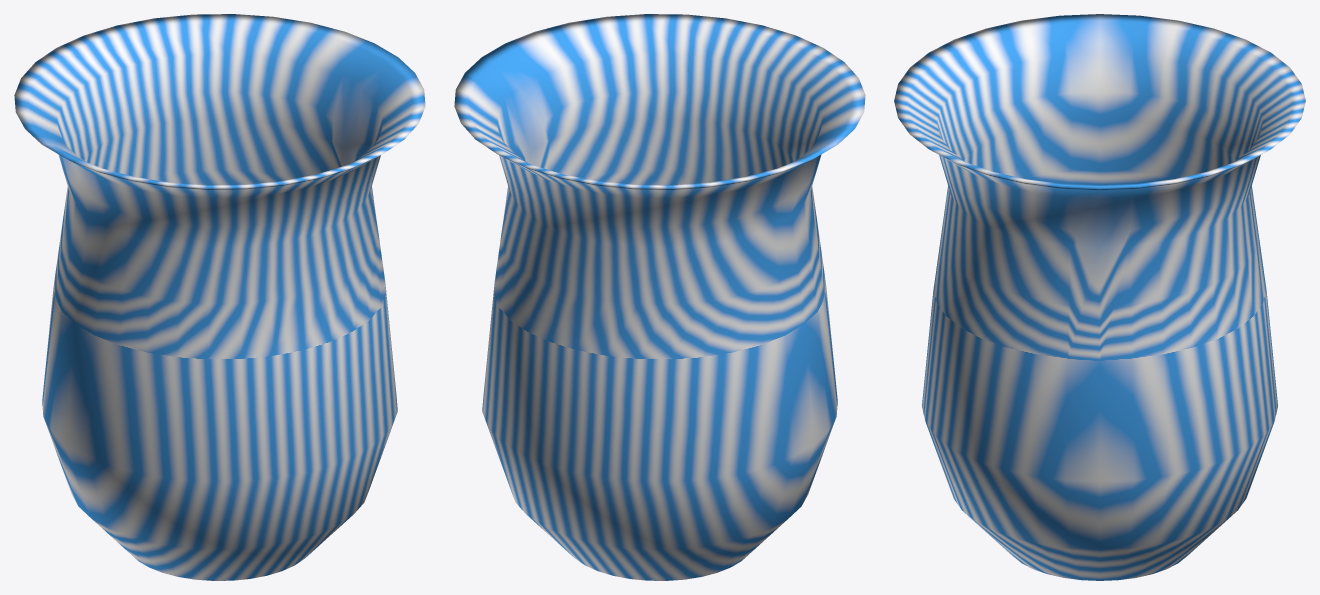
Rendered from vase_animated.glb.
The picture shows the model from 3 angles, left to right: view 1: azimuth 30°, elevation 25°; view 2: azimuth 150°, elevation 25°; view 3: azimuth 270°, elevation 25°; orthographic projection.
Visible parts, largest first — view 1: Plane; view 2: Plane; view 3: Plane.
Part boxes in pixels (box(x1,y1,x2,y2)): Plane: box(14, 14, 425, 580); Plane: box(454, 14, 865, 580); Plane: box(894, 14, 1305, 580).
Size of the model in its own units: 1.51 by 1.78 by 1.51.
1 material, 1 textured.
